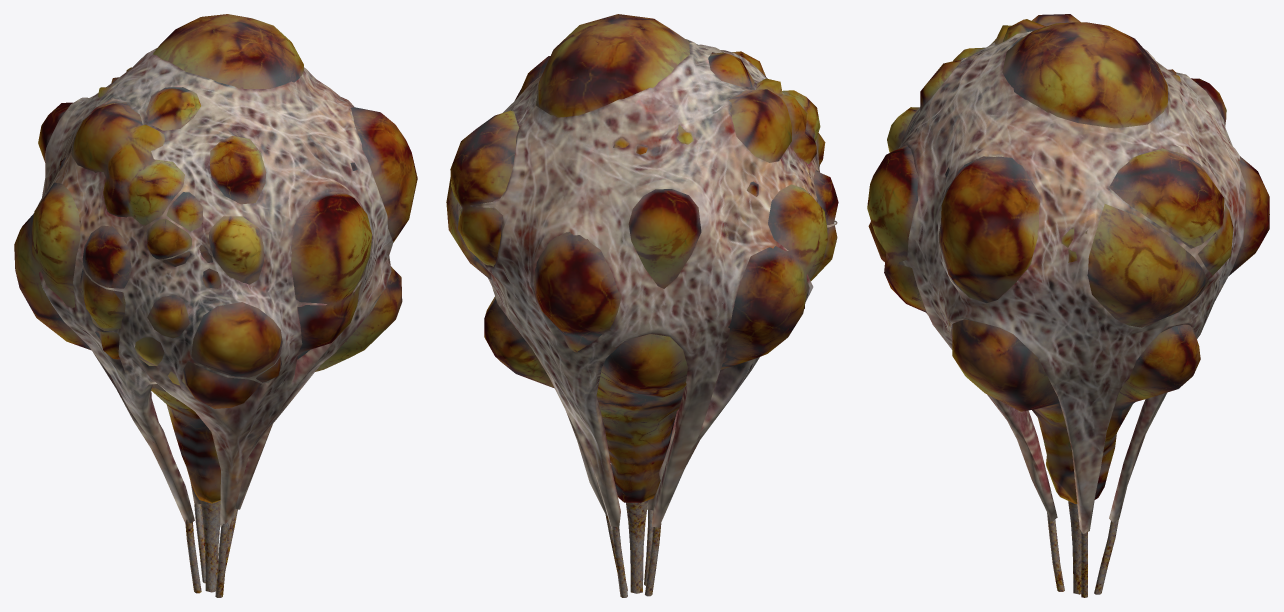
Rendered from P_CircusBalloon02.fbx.
3 views of the same model, side by side, from view 1: azimuth 30°, elevation 25°; view 2: azimuth 150°, elevation 25°; view 3: azimuth 270°, elevation 25° (orthographic).
Visible parts, largest first — view 1: P_CircusBalloon02; view 2: P_CircusBalloon02; view 3: P_CircusBalloon02.
Part boxes in pixels (x1,y1,x2,y2): P_CircusBalloon02: [14, 14, 417, 597]; P_CircusBalloon02: [446, 14, 838, 597]; P_CircusBalloon02: [867, 14, 1269, 597].
Bounding box in the file's own units: 405 × 636 × 408.
